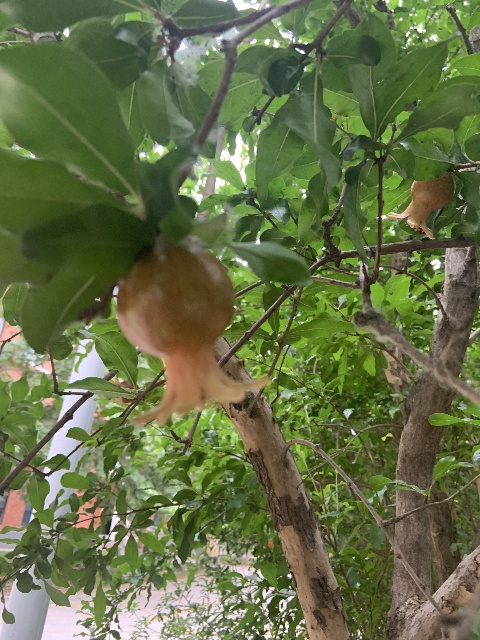early-fruit: (114, 244, 269, 426), (386, 170, 455, 238), (109, 376, 138, 403)
